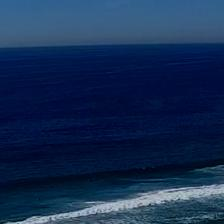surfer: (50, 185, 54, 189), (0, 201, 3, 205), (38, 197, 42, 200), (112, 181, 115, 185), (89, 179, 92, 182)
